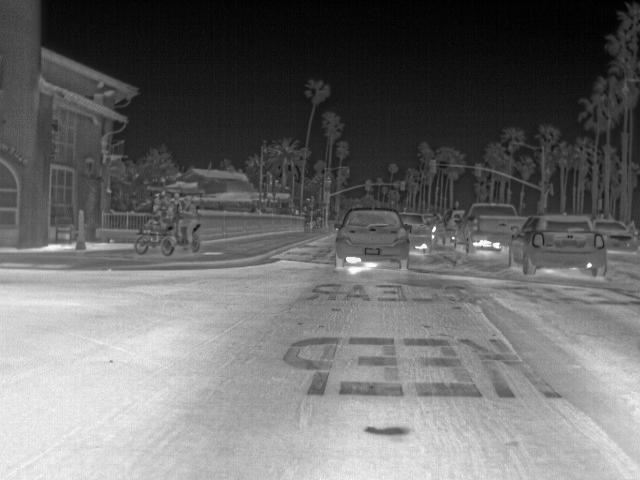car: (513, 213, 607, 276), (333, 205, 410, 272), (464, 200, 520, 246), (591, 215, 638, 249), (398, 211, 432, 252), (434, 208, 464, 246)
